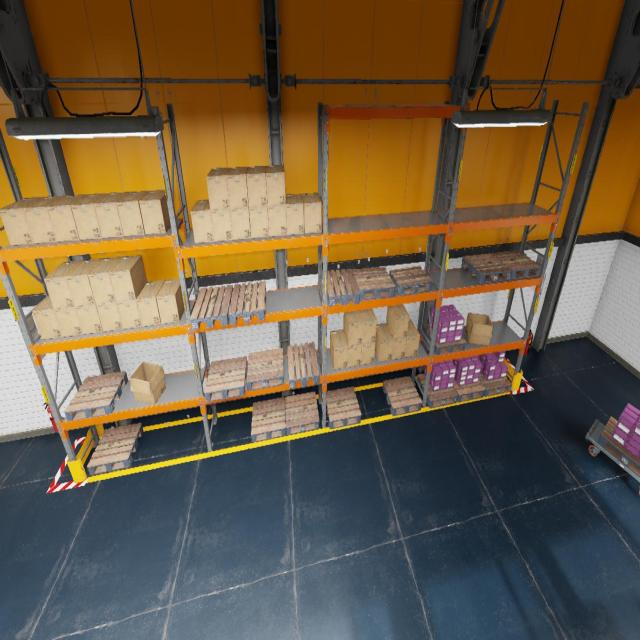box: (0, 197, 45, 245), (23, 196, 67, 243), (47, 194, 88, 242), (44, 260, 83, 309), (71, 193, 109, 240), (66, 258, 103, 306), (109, 255, 147, 301), (94, 192, 130, 238), (88, 256, 122, 304), (129, 362, 166, 404), (116, 191, 150, 236), (139, 190, 171, 234), (32, 295, 62, 340), (136, 280, 165, 326), (156, 278, 184, 324), (190, 200, 214, 243), (206, 168, 230, 210), (465, 312, 493, 346), (226, 166, 248, 208), (246, 166, 268, 207), (54, 307, 83, 337), (75, 304, 103, 334), (266, 164, 286, 206), (302, 192, 321, 234), (96, 302, 123, 331), (386, 304, 409, 338), (116, 299, 142, 329), (386, 323, 407, 360), (330, 329, 348, 370), (286, 193, 304, 234), (210, 209, 232, 241), (343, 311, 363, 346), (375, 323, 393, 361), (230, 207, 251, 239), (359, 308, 377, 344), (344, 331, 362, 367), (249, 206, 269, 238), (405, 319, 420, 357), (268, 205, 286, 236), (361, 342, 375, 365)
pallets: (64, 371, 128, 421), (87, 423, 143, 475), (597, 417, 640, 477), (205, 356, 248, 402), (190, 285, 233, 330), (228, 281, 266, 325), (246, 348, 284, 391), (251, 397, 286, 442), (383, 376, 422, 416), (461, 253, 512, 283), (326, 386, 361, 429), (287, 342, 319, 389), (491, 250, 542, 279), (285, 392, 319, 435), (352, 267, 396, 300), (417, 373, 458, 408), (389, 266, 433, 296), (423, 324, 466, 354), (327, 268, 360, 306), (479, 364, 512, 396), (454, 380, 486, 402)
